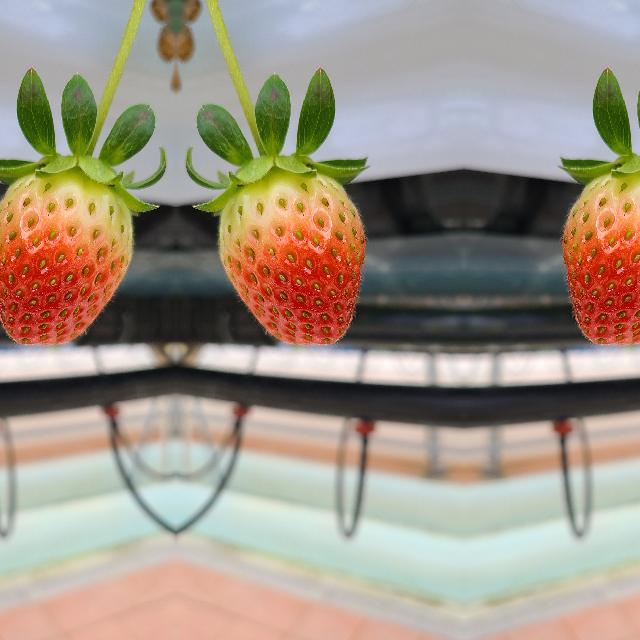Health_75: (218, 170, 364, 344), (0, 169, 132, 344), (562, 169, 640, 344)
